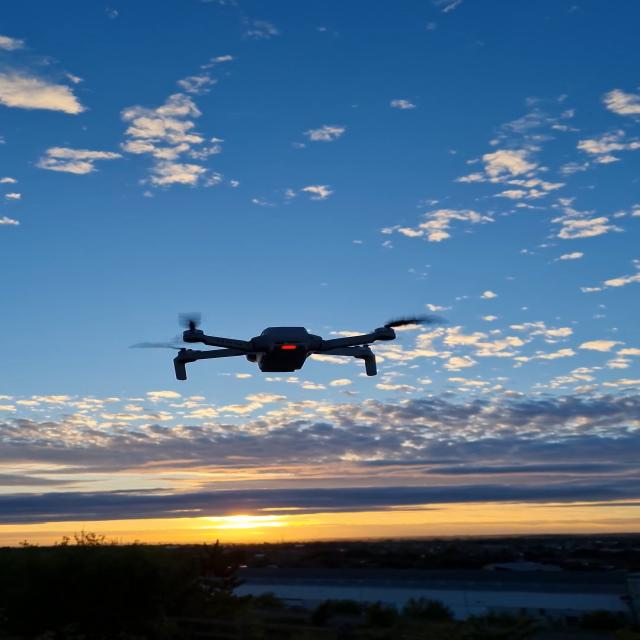Drone: (172, 314, 418, 381)
